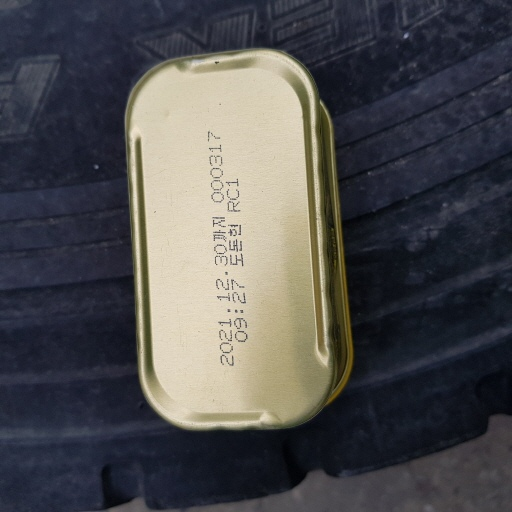Metal_2: (119, 44, 355, 439)
